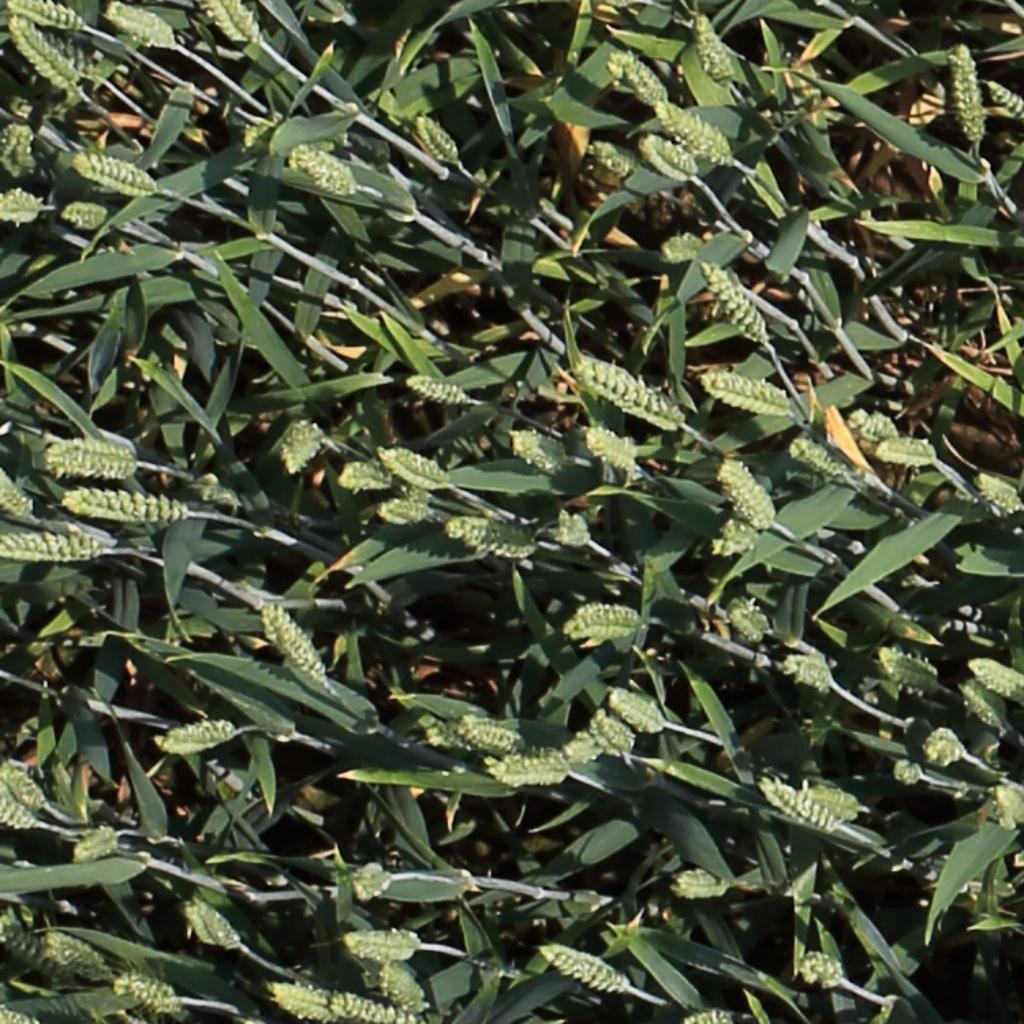0-0: (576, 359, 684, 427), (258, 598, 333, 692), (699, 253, 772, 348), (6, 16, 81, 90), (0, 916, 72, 988), (658, 96, 737, 161), (273, 987, 412, 1022), (719, 454, 780, 533), (542, 943, 630, 995), (38, 431, 135, 475), (690, 6, 742, 88), (761, 779, 835, 835), (146, 713, 239, 757), (950, 38, 987, 148), (70, 150, 161, 192), (703, 372, 794, 413), (842, 401, 912, 454), (607, 49, 670, 106), (290, 141, 357, 193), (64, 492, 187, 520), (410, 106, 466, 167), (184, 894, 241, 953), (447, 518, 537, 555), (107, 2, 177, 49), (379, 446, 451, 488), (563, 600, 641, 637), (955, 678, 1006, 734), (487, 746, 566, 782), (640, 131, 701, 177), (880, 644, 943, 688), (376, 962, 428, 1015), (608, 689, 667, 734), (584, 428, 643, 472), (672, 863, 731, 907), (334, 858, 395, 900), (47, 935, 109, 976), (510, 430, 566, 475), (212, 0, 264, 47), (879, 431, 943, 469), (279, 417, 320, 476), (113, 974, 178, 1010), (589, 709, 637, 757), (0, 765, 47, 813), (9, 1, 86, 30), (460, 720, 527, 753), (791, 439, 849, 477), (2, 111, 34, 176), (0, 537, 99, 558), (0, 462, 35, 521), (980, 75, 1024, 121), (334, 458, 395, 491), (973, 472, 1022, 513), (969, 660, 1022, 697), (406, 374, 471, 404), (783, 656, 836, 692), (991, 778, 1022, 839), (729, 603, 772, 645), (588, 139, 637, 174), (72, 830, 121, 864), (806, 789, 864, 817), (0, 785, 34, 830), (342, 939, 421, 958), (378, 495, 434, 521), (800, 955, 845, 987), (891, 755, 931, 788), (924, 737, 968, 764), (661, 233, 708, 254), (0, 197, 45, 217), (60, 203, 109, 221), (0, 996, 25, 1024), (686, 1011, 735, 1024)
